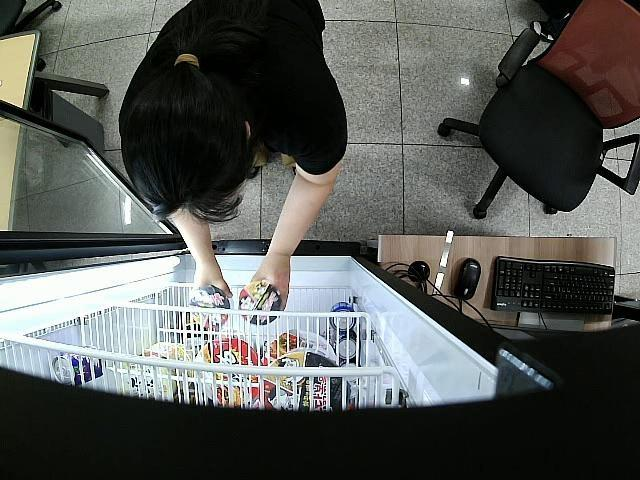08_buldak_S: (189, 286, 230, 327), (240, 282, 281, 323)
